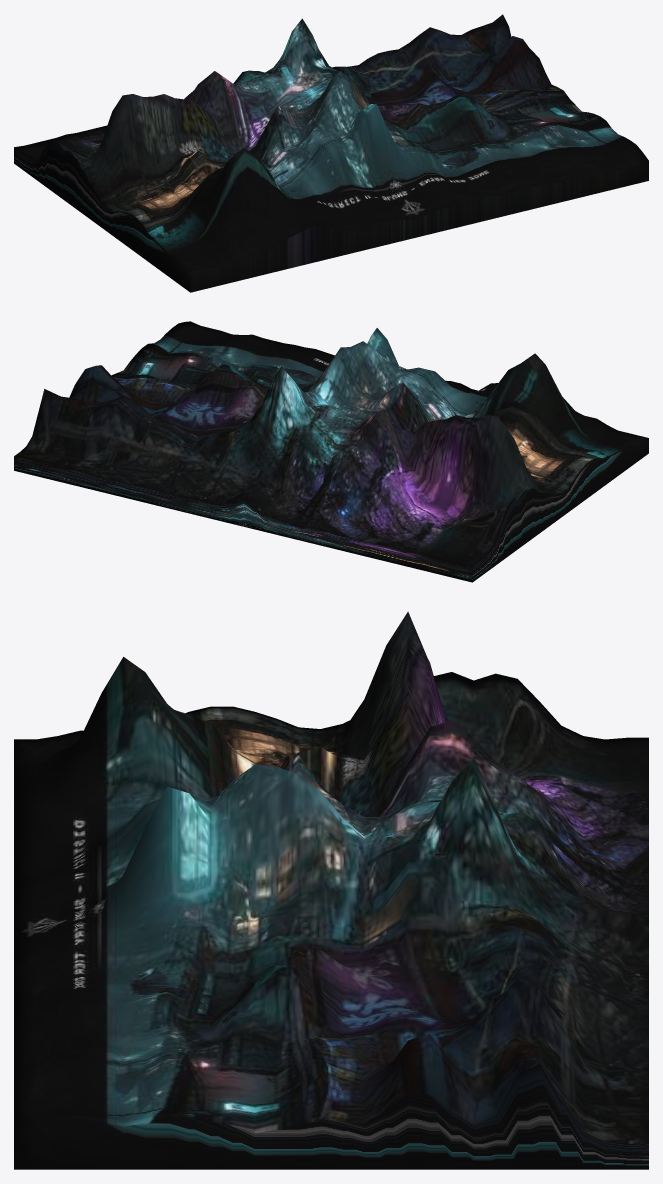
File: DISTRICT_11_Slums.glb
The picture shows the model from 3 angles, top to bottom: view 1: azimuth 30°, elevation 25°; view 2: azimuth 150°, elevation 25°; view 3: azimuth 270°, elevation 25°; orthographic projection. The views are drawn at different scales.
Visible parts, largest first — view 1: DISTRICT_11_Slums; view 2: DISTRICT_11_Slums; view 3: DISTRICT_11_Slums.
Part boxes in pixels (x1,y1,x2,y2): DISTRICT_11_Slums: (14,14,648,292); DISTRICT_11_Slums: (14,321,648,582); DISTRICT_11_Slums: (14,611,648,1169).
Size of the model in its own units: 2 by 0.51 by 1.33.
Materials: 1 (1 with a texture image).
